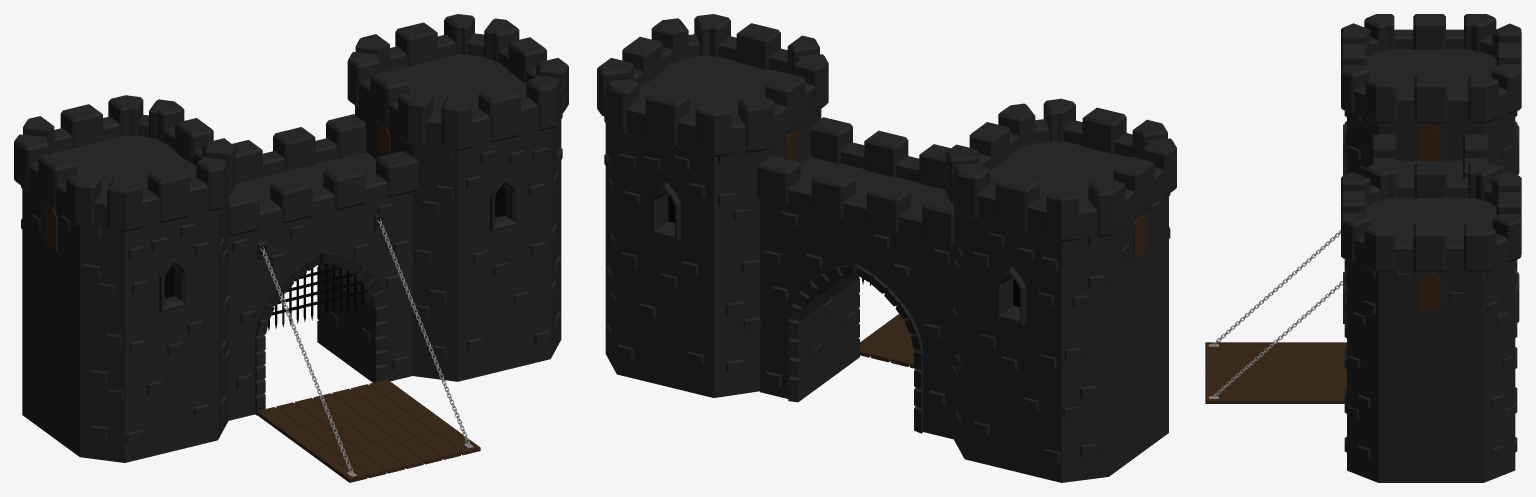
The model's file is castle_gate_001.fbx.
3 renders of one model, left to right at view 1: azimuth 30°, elevation 25°; view 2: azimuth 150°, elevation 25°; view 3: azimuth 270°, elevation 25°, orthographic. The views are drawn at different scales.
Parts seen in each view (by area): view 1: frontgate, drawbridge, grating, chain; view 2: frontgate, drawbridge; view 3: frontgate, drawbridge, chain.
Boxes of the visible parts, bbox=[...] form: frontgate: bbox=[14, 14, 568, 462]; drawbridge: bbox=[256, 379, 480, 482]; grating: bbox=[267, 262, 367, 330]; chain: bbox=[260, 218, 470, 474]; frontgate: bbox=[597, 14, 1176, 482]; drawbridge: bbox=[860, 314, 915, 368]; frontgate: bbox=[1341, 14, 1521, 482]; drawbridge: bbox=[1205, 342, 1346, 403]; chain: bbox=[1211, 230, 1342, 397].
Size of the model in its own units: 3200 by 1707 by 1939.
